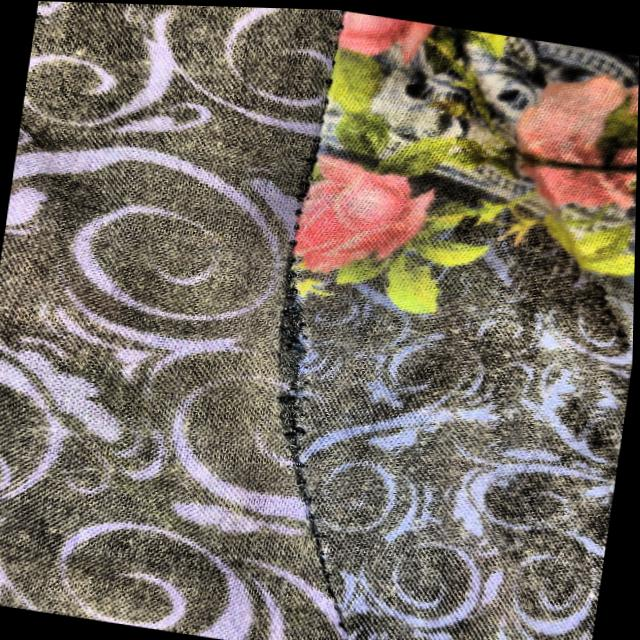seam: (209, 207, 381, 500)
